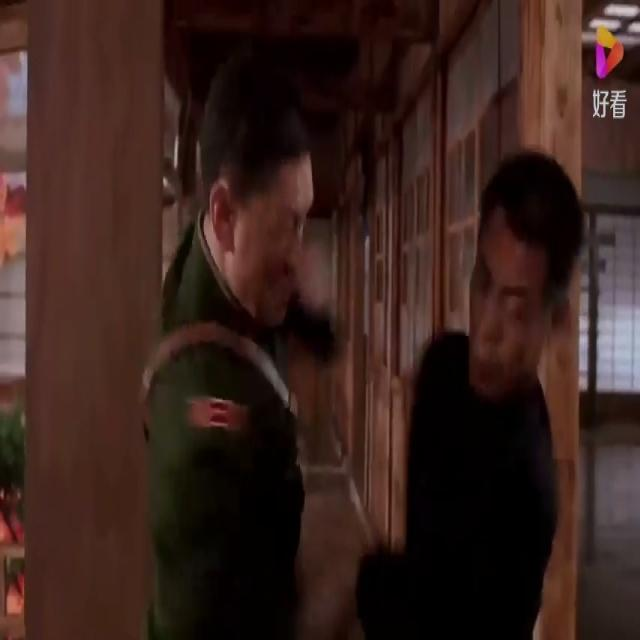fight: (136, 45, 584, 640)
